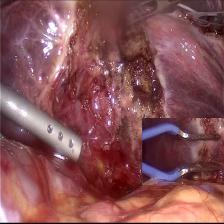Bipolar: (142, 118, 224, 185)
Grasper: (120, 0, 178, 31)
Irrigator: (34, 106, 84, 164)
